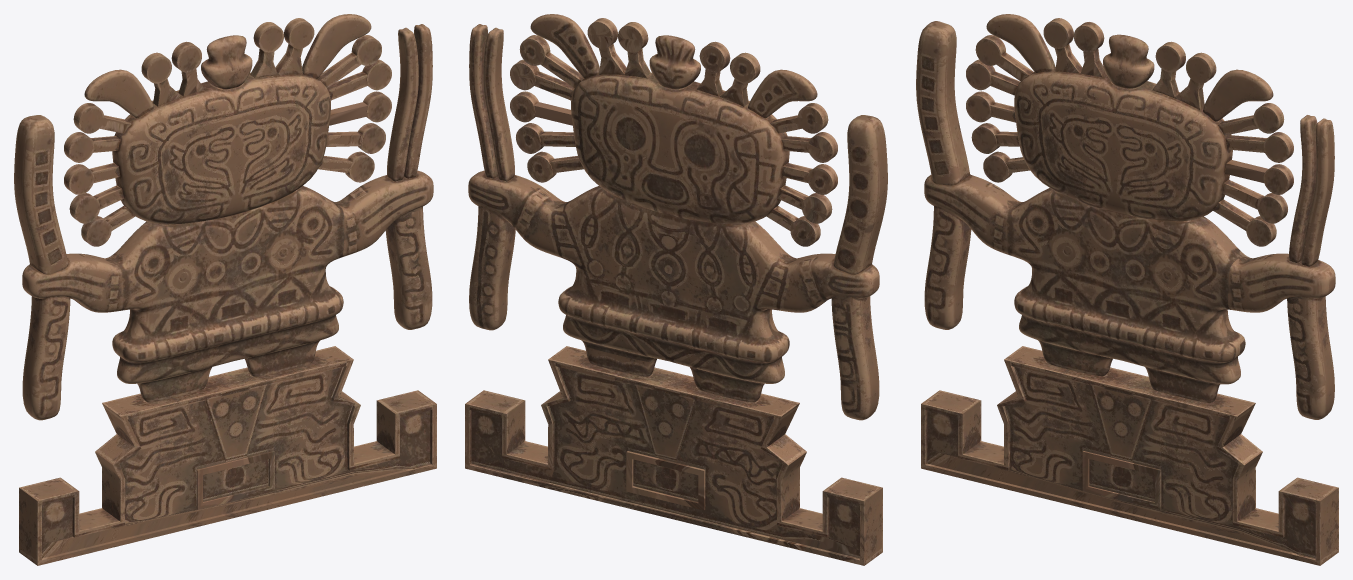
The model's file is viracocha-god-statue.glb.
The picture shows the model from 3 angles, left to right: view 1: azimuth 30°, elevation 25°; view 2: azimuth 150°, elevation 25°; view 3: azimuth 330°, elevation 25°; orthographic projection.
Parts seen in each view (by area): view 1: model_1, model_0; view 2: model_1, model_0; view 3: model_1, model_0.
Part boxes in pixels (box(x1,y1,x2,y2)): model_1: box(19, 14, 436, 565); model_0: box(14, 115, 433, 420); model_1: box(465, 14, 882, 565); model_0: box(468, 115, 887, 420); model_1: box(921, 14, 1338, 565); model_0: box(916, 21, 1335, 402).
Size of the model in its own units: 243 by 269 by 27.37.
Materials: 1 (1 with a texture image).
